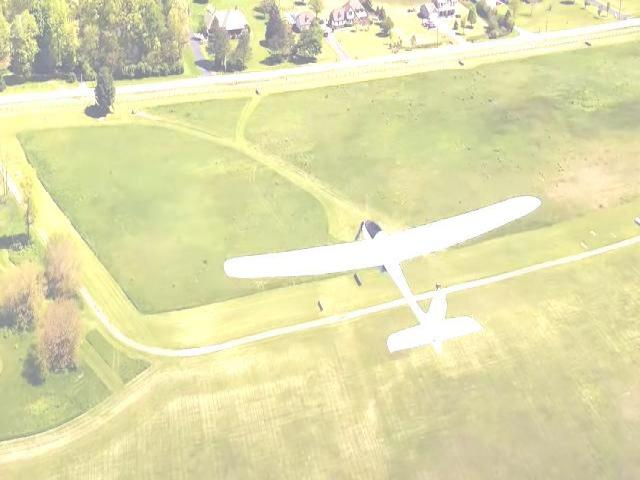iha: (224, 197, 543, 353)
